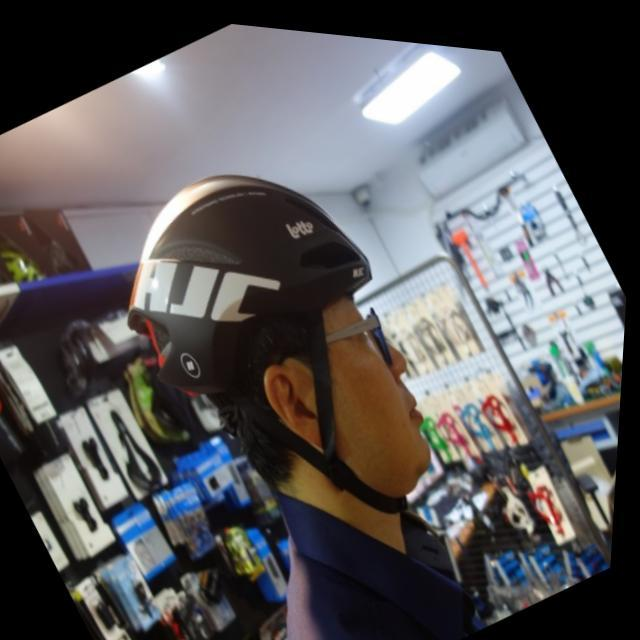Helmet: (119, 158, 450, 510)
